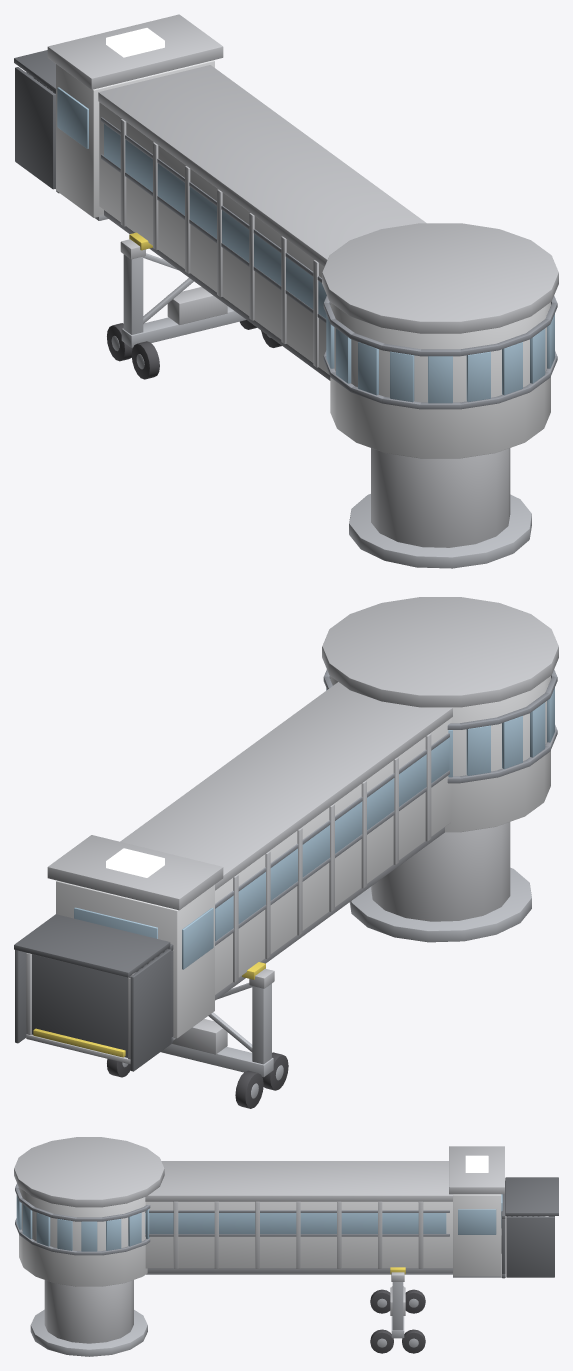
The model's file is th25_fluggastbruecke.glb.
3 views of the same model, one above another, from view 1: azimuth 30°, elevation 25°; view 2: azimuth 150°, elevation 25°; view 3: azimuth 270°, elevation 25° (orthographic). The views are drawn at different scales.
Visible parts, largest first — view 1: Cube.083, Cylinder.003, Cylinder.002, Cube.055, Cylinder, Cube.102, Cube.056, Cylinder.001, Cube.101, Cube.148, Cube.096, Cube.092 (+16 smaller); view 2: Cube.083, Cylinder.003, Cube.055, Cylinder, Cylinder.002, Cube.101, Cube.142, Cube.056, Cube.102, Cube.150, Cylinder.001, Cube.148 (+17 smaller); view 3: Cube.069, Cube.083, Cylinder.003, Cylinder.002, Cube.070, Cylinder, Cube.101, Cube.149, Cube.102, Cylinder.001, Cube.150, Cube.054 (+23 smaller).
Boxes of the visible parts, bbox=[...] form: Cube.083: bbox=[98, 65, 426, 266]; Cylinder.003: bbox=[322, 223, 558, 333]; Cylinder.002: bbox=[330, 302, 550, 458]; Cube.055: bbox=[99, 102, 329, 374]; Cylinder: bbox=[371, 448, 510, 547]; Cube.102: bbox=[47, 14, 223, 89]; Cube.056: bbox=[104, 124, 326, 318]; Cylinder.001: bbox=[349, 494, 531, 568]; Cube.101: bbox=[56, 60, 214, 217]; Cube.148: bbox=[15, 67, 55, 189]; Cube.096: bbox=[121, 306, 246, 347]; Cube.092: bbox=[123, 254, 143, 334]; Cube.083: bbox=[120, 682, 452, 890]; Cylinder.003: bbox=[322, 597, 558, 707]; Cube.055: bbox=[215, 718, 451, 994]; Cylinder: bbox=[371, 822, 510, 921]; Cylinder.002: bbox=[330, 676, 550, 832]; Cube.101: bbox=[56, 880, 214, 1038]; Cube.142: bbox=[31, 954, 136, 1057]; Cube.056: bbox=[215, 738, 449, 941]; Cube.102: bbox=[47, 835, 223, 910]; Cube.150: bbox=[14, 914, 170, 977]; Cylinder.001: bbox=[349, 867, 531, 942]; Cube.148: bbox=[130, 949, 171, 1071]; Cube.069: bbox=[145, 1201, 452, 1268]; Cube.083: bbox=[145, 1161, 452, 1201]; Cylinder.003: bbox=[14, 1137, 164, 1207]; Cylinder.002: bbox=[19, 1187, 147, 1286]; Cube.070: bbox=[145, 1213, 446, 1233]; Cylinder: bbox=[44, 1280, 133, 1343]; Cube.101: bbox=[453, 1194, 501, 1276]; Cube.149: bbox=[506, 1216, 554, 1277]; Cube.102: bbox=[449, 1146, 504, 1194]; Cylinder.001: bbox=[30, 1309, 147, 1356]; Cube.150: bbox=[505, 1177, 558, 1215]; Cube.054: bbox=[147, 1268, 452, 1273].
Size of the model in its own units: 5.81 by 7.36 by 21.36.
